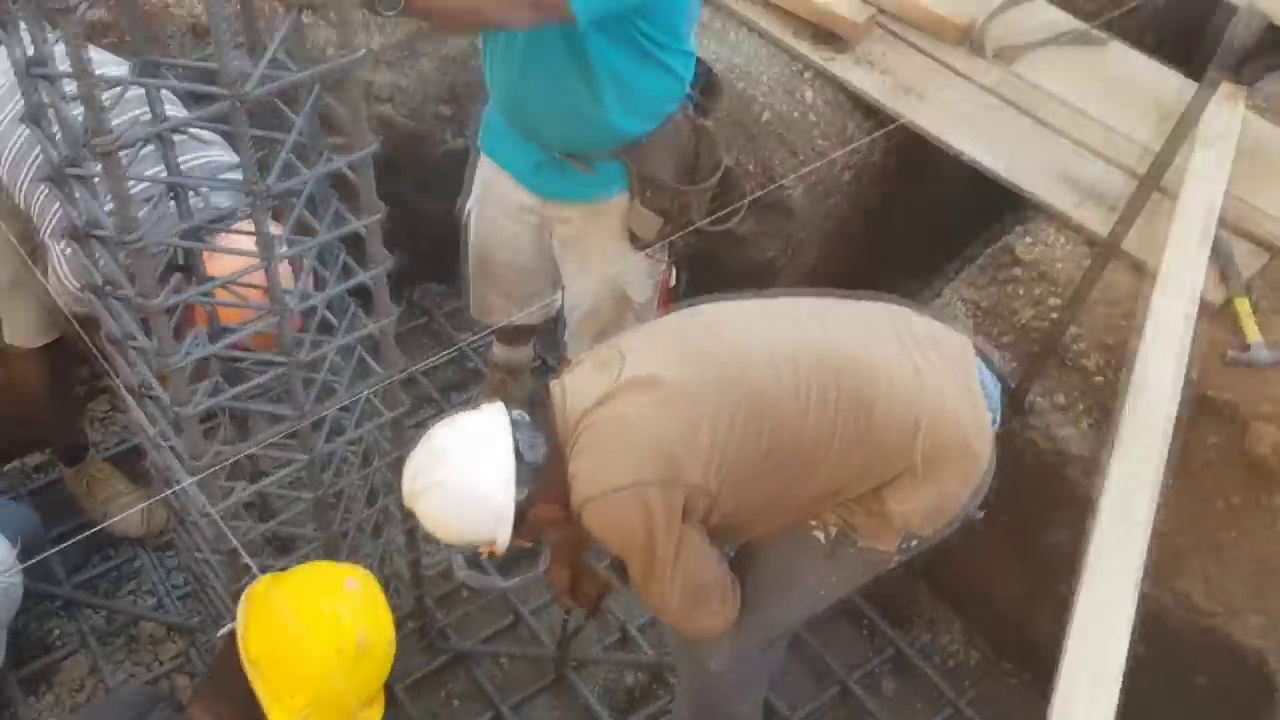helmet: (226, 566, 404, 702), (414, 390, 521, 555), (190, 223, 316, 360)
helmet-on: (166, 555, 404, 719), (394, 375, 592, 560), (155, 203, 317, 363)
person: (395, 294, 1000, 716), (1, 0, 320, 537), (470, 0, 701, 391)
